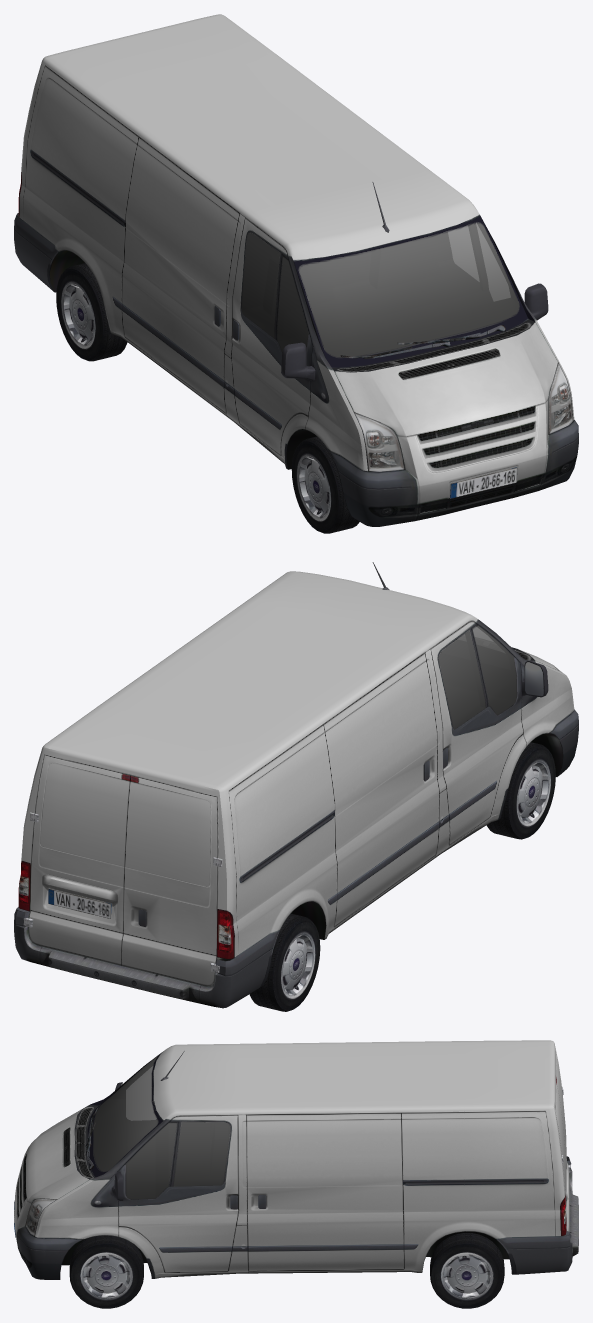
The model's file is van_silver.glb.
3 renders of one model, top to bottom at view 1: azimuth 30°, elevation 25°; view 2: azimuth 150°, elevation 25°; view 3: azimuth 270°, elevation 25°, orthographic. The views are drawn at different scales.
Visible parts, largest first — view 1: van03_, van03_gla_, van03_wheel04_, van03_wheel02_; view 2: van03_, van03_gla_, van03_wheel04_, van03_wheel02_; view 3: van03_, van03_gla_, van03_wheel03_, van03_wheel01_.
Boxes of the visible parts, x1,y1,x2,y2 form: van03_: (14, 14, 578, 526); van03_gla_: (241, 223, 519, 357); van03_wheel04_: (56, 263, 127, 361); van03_wheel02_: (291, 436, 359, 533); van03_: (14, 562, 578, 1008); van03_gla_: (438, 625, 517, 729); van03_wheel04_: (249, 913, 320, 1011); van03_wheel02_: (486, 742, 555, 839); van03_: (14, 1040, 578, 1279); van03_gla_: (93, 1056, 230, 1199); van03_wheel03_: (430, 1233, 504, 1308); van03_wheel01_: (69, 1235, 143, 1308).
Size of the model in its own units: 2.19 by 2.25 by 5.29.
Materials: 3 (3 with a texture image).
